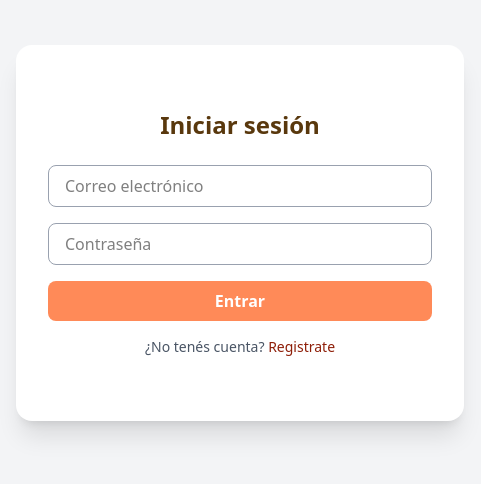
Test: Login Component › limpia errores al alternar entre login y registro
Click the button "Entrar" at x=240, y=301, box [48,281,432,321]
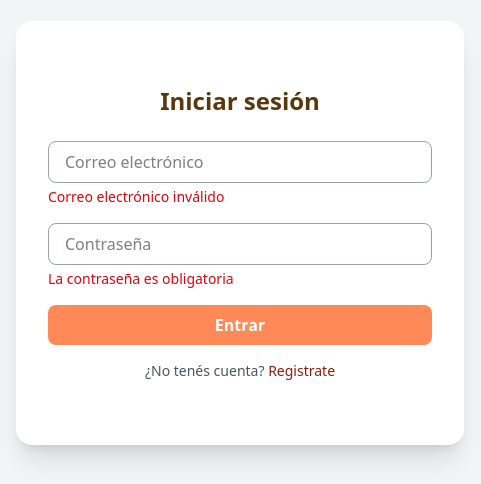
Check: the text "Correo electrónico inválido" is shown, box [48,187,224,206]
Click the button "Registrate" at x=302, y=371, box [268,361,335,381]
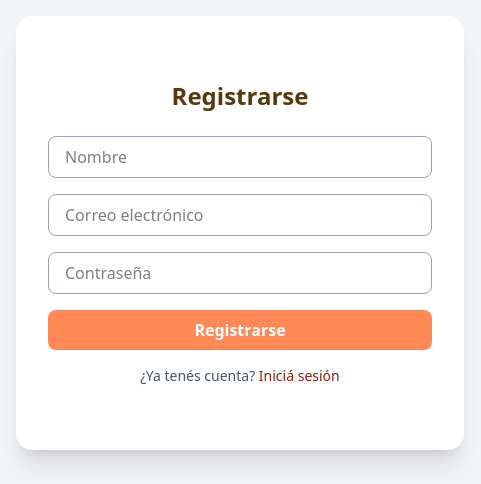
Check: the text "Correo electrónico inválido" is gone
